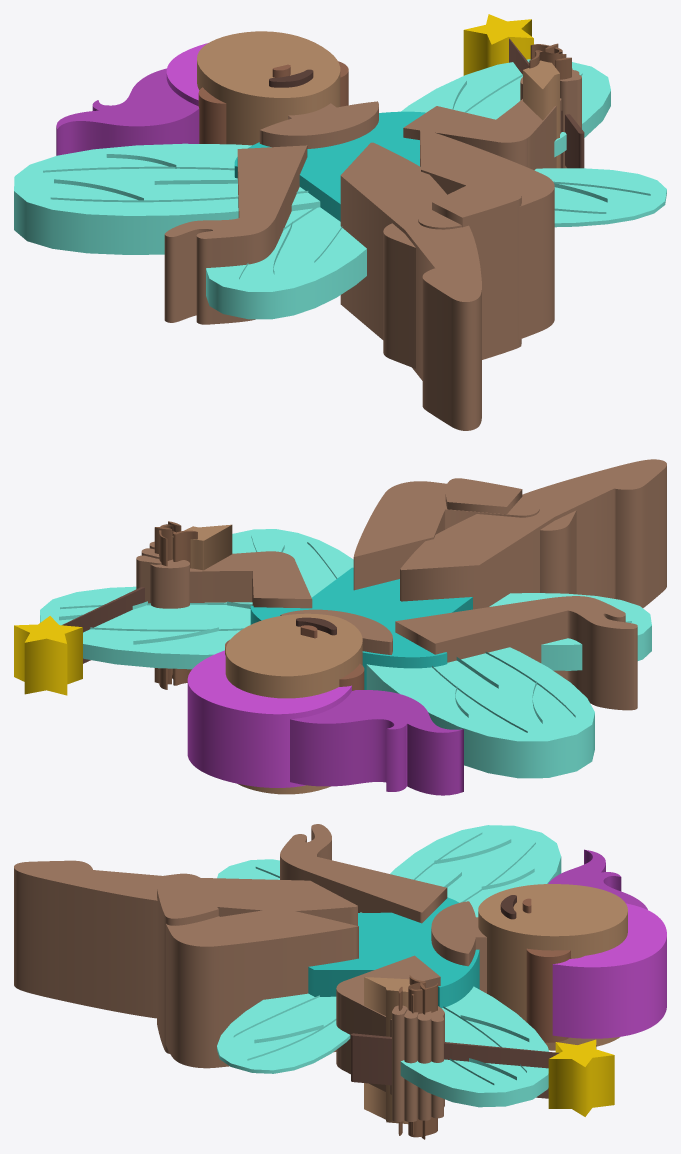
The model's file is emoji_u1f9da_1f3fd_200d_2640.glb.
3 renders of one model, top to bottom at view 1: azimuth 30°, elevation 25°; view 2: azimuth 150°, elevation 25°; view 3: azimuth 270°, elevation 25°, orthographic. The views are drawn at different scales.
Visible parts, largest first — view 1: emoji_u1f9da_1f3fd_200d_2640; view 2: emoji_u1f9da_1f3fd_200d_2640; view 3: emoji_u1f9da_1f3fd_200d_2640.
Boxes of the visible parts, bbox=[...] form: emoji_u1f9da_1f3fd_200d_2640: bbox=[14, 14, 666, 430]; emoji_u1f9da_1f3fd_200d_2640: bbox=[14, 459, 666, 795]; emoji_u1f9da_1f3fd_200d_2640: bbox=[14, 824, 666, 1139].
Size of the model in its own units: 0.0309 by 0.0084 by 0.0331.
